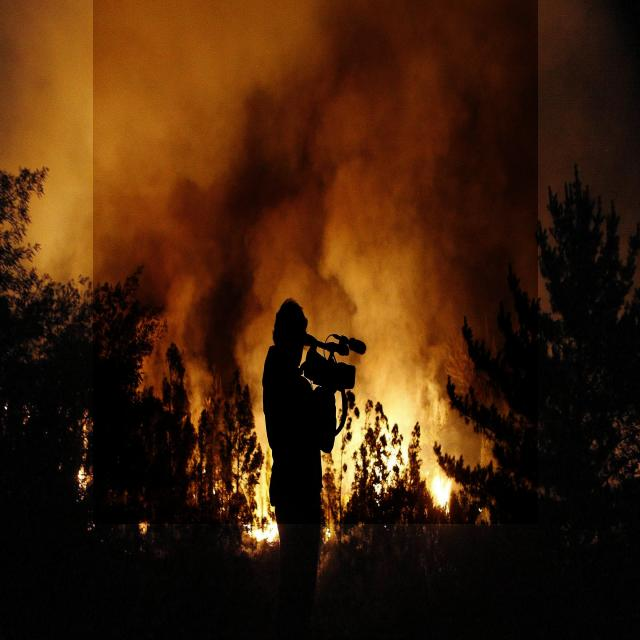Fire: (93, 0, 538, 524)
